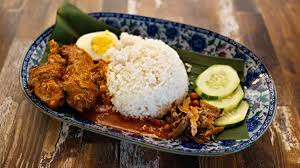rendang: (28, 19, 263, 151)
